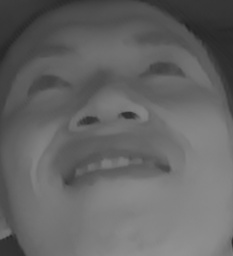eye: (134, 52, 188, 85), (20, 71, 73, 102)
mouth: (51, 142, 178, 202)
